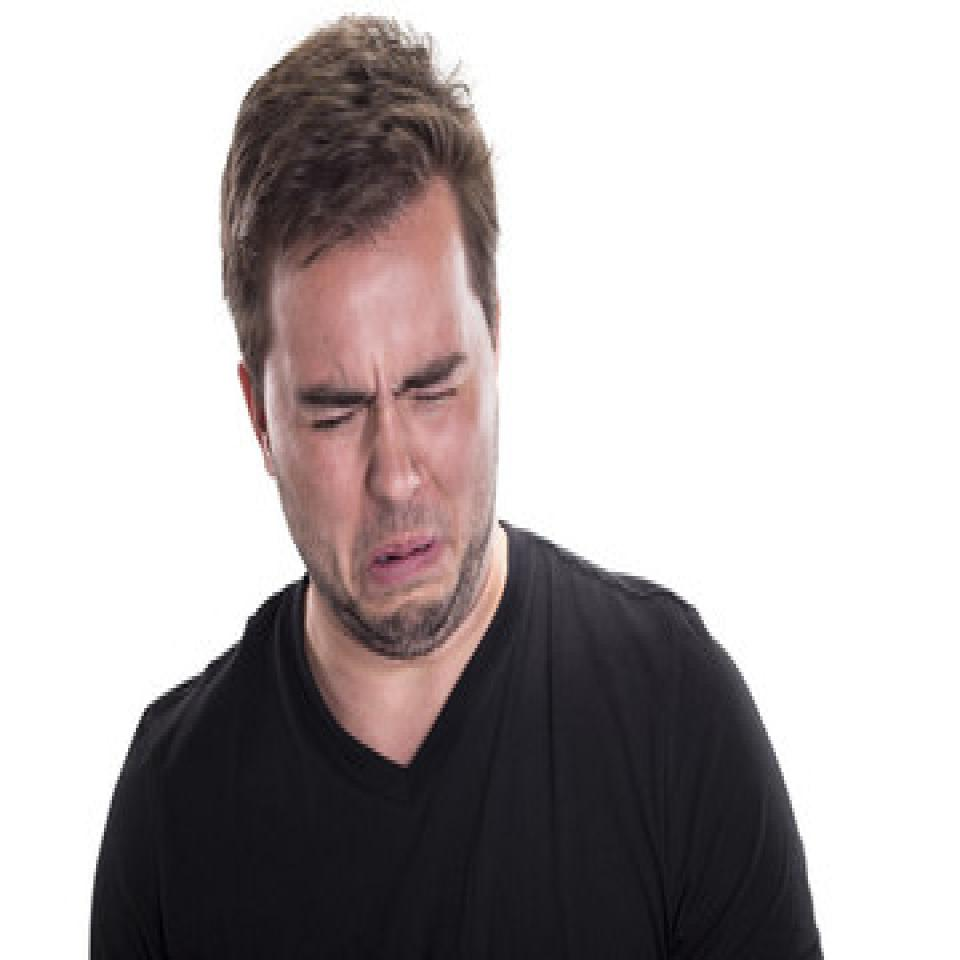Disgust: (263, 244, 508, 650)
